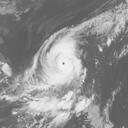cyclone: (35, 30, 85, 87)
